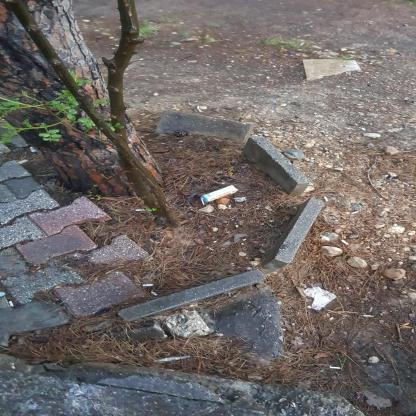karton: (186, 179, 204, 217)
